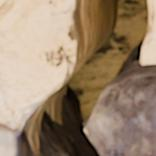broken_brick: (89, 63, 155, 155), (0, 123, 11, 131)
crack: (0, 0, 153, 155)
